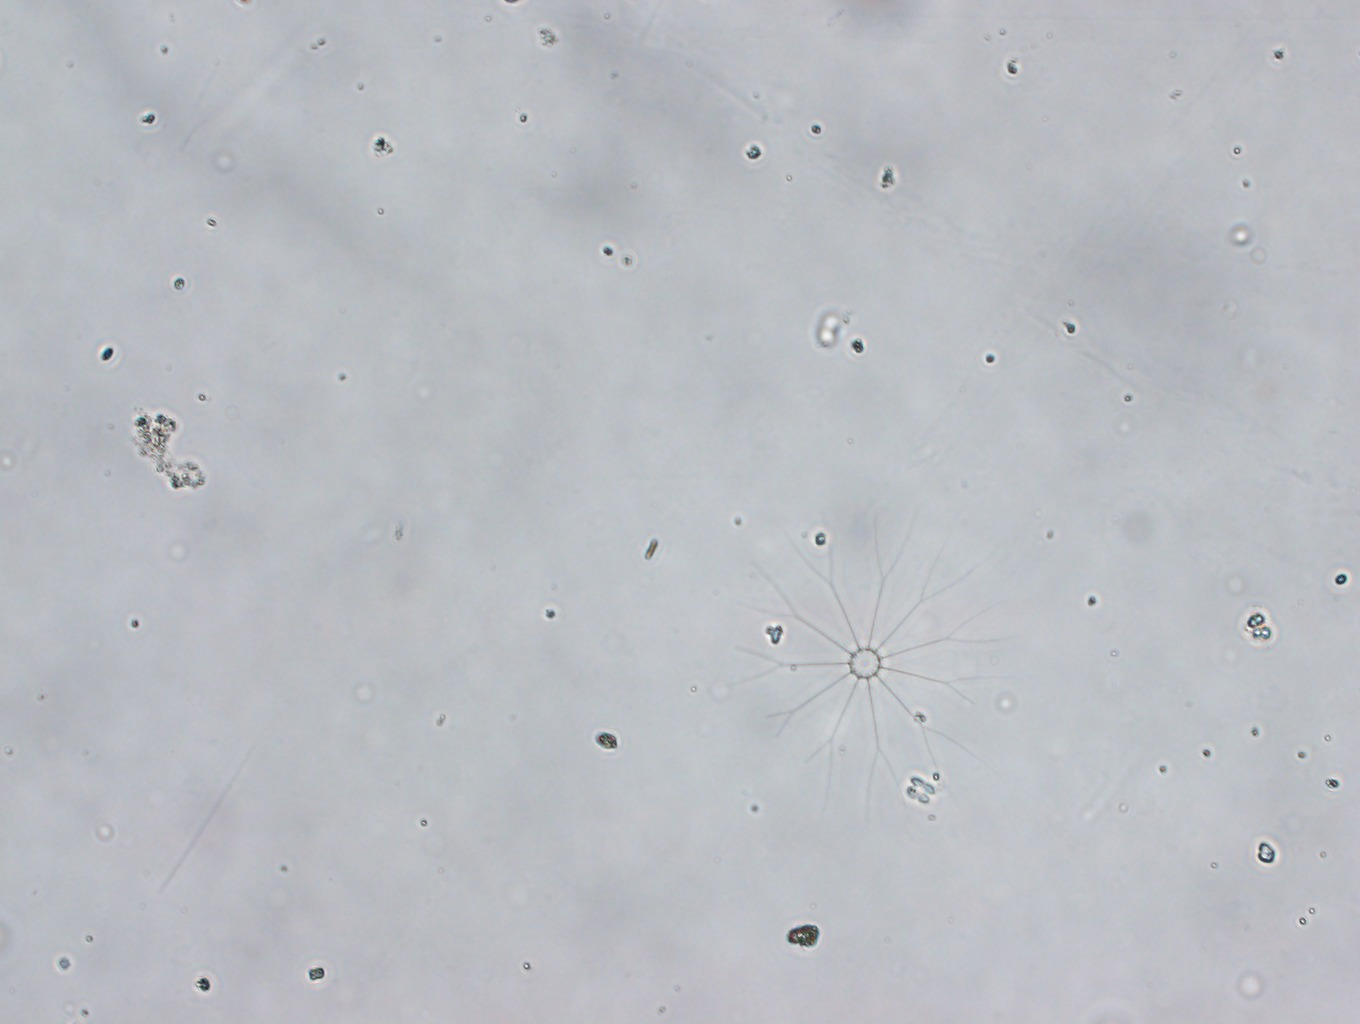bacteriastrum: (716, 513, 1014, 821)
